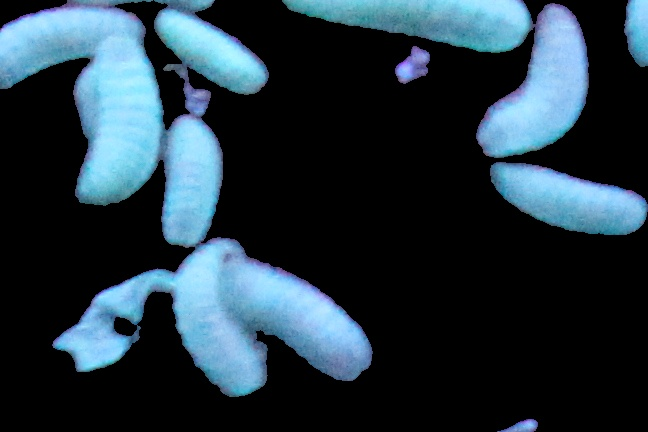larvae: (273, 1, 533, 74), (233, 264, 375, 387), (475, 3, 588, 155), (80, 36, 167, 206), (175, 245, 265, 393), (489, 157, 644, 240), (1, 9, 155, 92), (151, 10, 266, 95), (157, 120, 222, 245)
